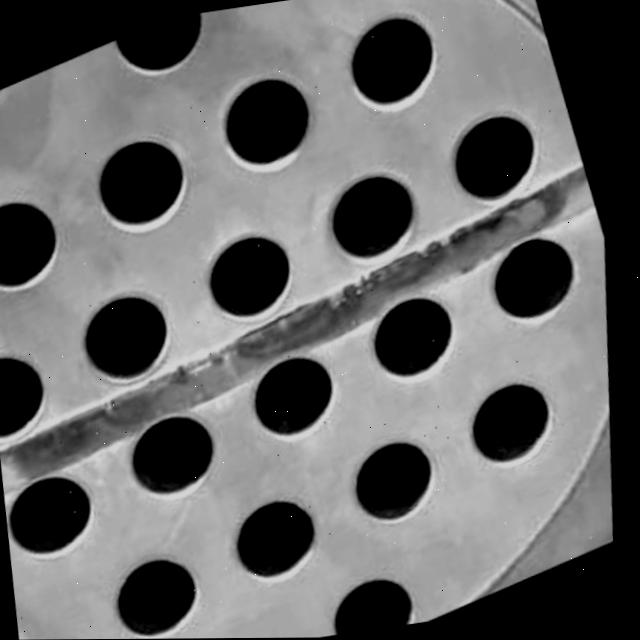Hole: (76, 112, 218, 243), (69, 268, 203, 392), (204, 53, 335, 179), (434, 92, 564, 216), (332, 0, 459, 118), (316, 153, 442, 271), (359, 275, 485, 392), (118, 393, 245, 508), (228, 476, 352, 591), (196, 212, 317, 328), (1, 450, 124, 564), (481, 218, 604, 332), (346, 421, 464, 531), (243, 336, 360, 446), (108, 535, 229, 639), (465, 365, 579, 472), (0, 177, 81, 295), (325, 555, 443, 636), (107, 10, 225, 86), (0, 329, 75, 446)
